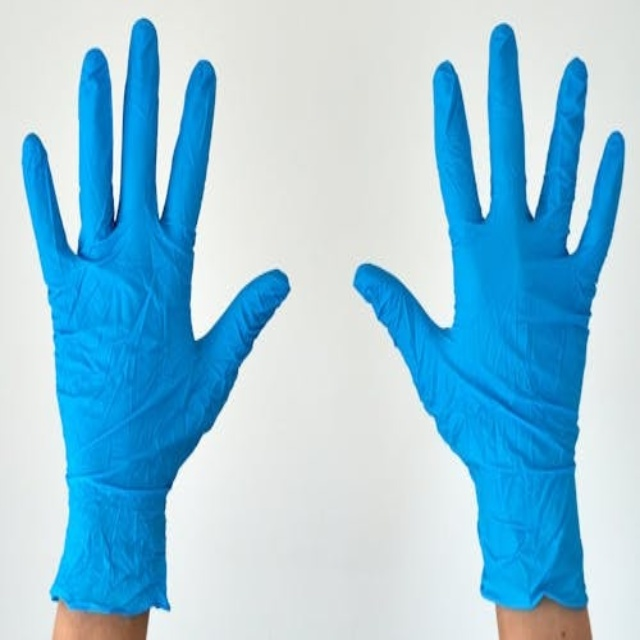Guantes: (19, 11, 292, 622), (355, 17, 631, 620)
